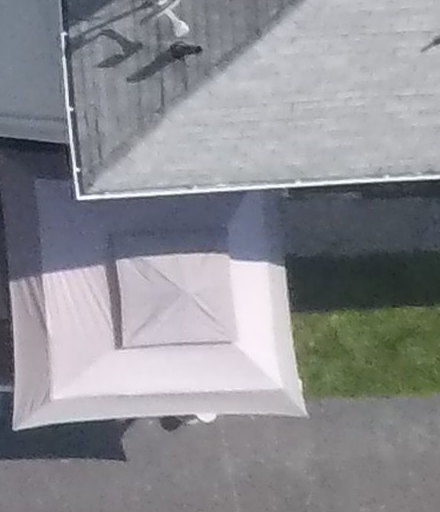umbrella: (1, 135, 332, 430)
